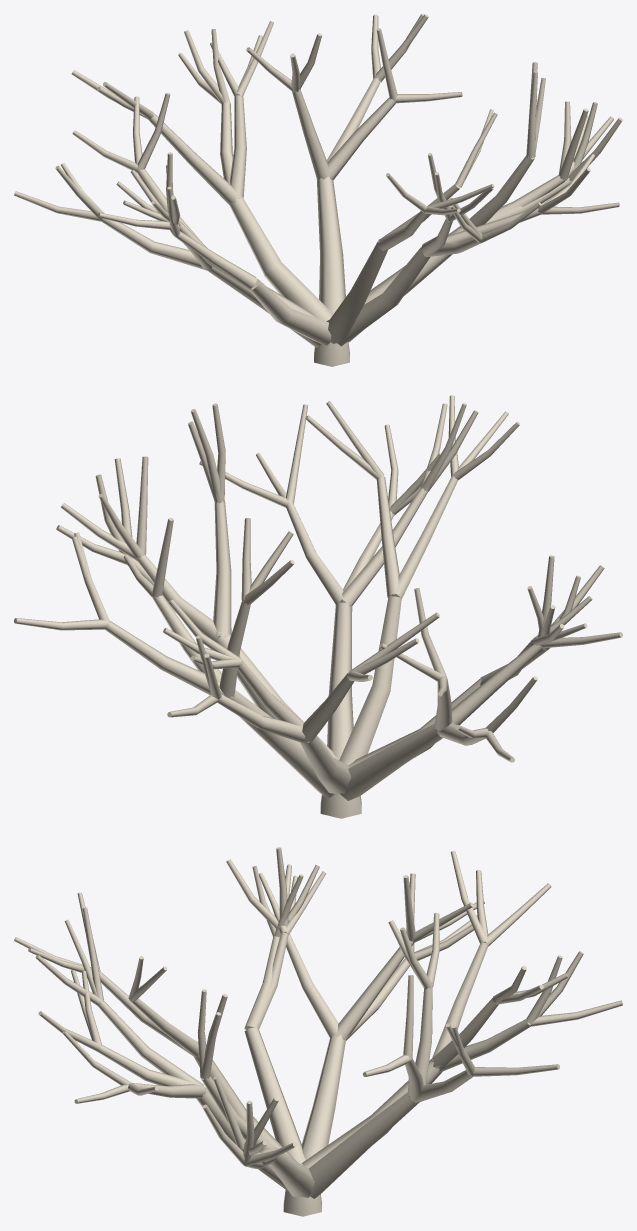
Rendered from coral_branching.glb.
3 renders of one model, top to bottom at view 1: azimuth 30°, elevation 25°; view 2: azimuth 150°, elevation 25°; view 3: azimuth 270°, elevation 25°, orthographic. The views are drawn at different scales.
Visible parts, largest first — view 1: coral_branching; view 2: coral_branching; view 3: coral_branching.
Part boxes in pixels (<box>): coral_branching: <box>14,14,622,366</box>; coral_branching: <box>14,395,622,818</box>; coral_branching: <box>14,847,622,1216</box>.
Bounding box in the file's own units: 2.24 × 1.2 × 2.21.
